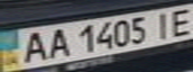0: (112, 17, 136, 47)
1: (72, 21, 96, 53)
4: (93, 19, 115, 51)
5: (127, 14, 154, 45)
A: (15, 28, 51, 64), (42, 26, 72, 59)
E: (163, 6, 193, 37)
I: (148, 10, 175, 39)
